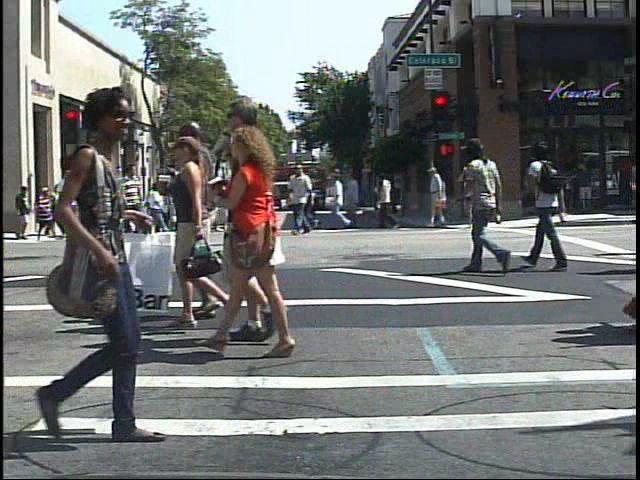person: (13, 81, 179, 452), (208, 119, 312, 364), (203, 93, 299, 345), (523, 134, 576, 277), (461, 131, 511, 279), (159, 156, 197, 247), (55, 165, 85, 246), (115, 161, 144, 244), (423, 160, 454, 232), (103, 163, 131, 242), (33, 184, 58, 245), (88, 180, 108, 222)
